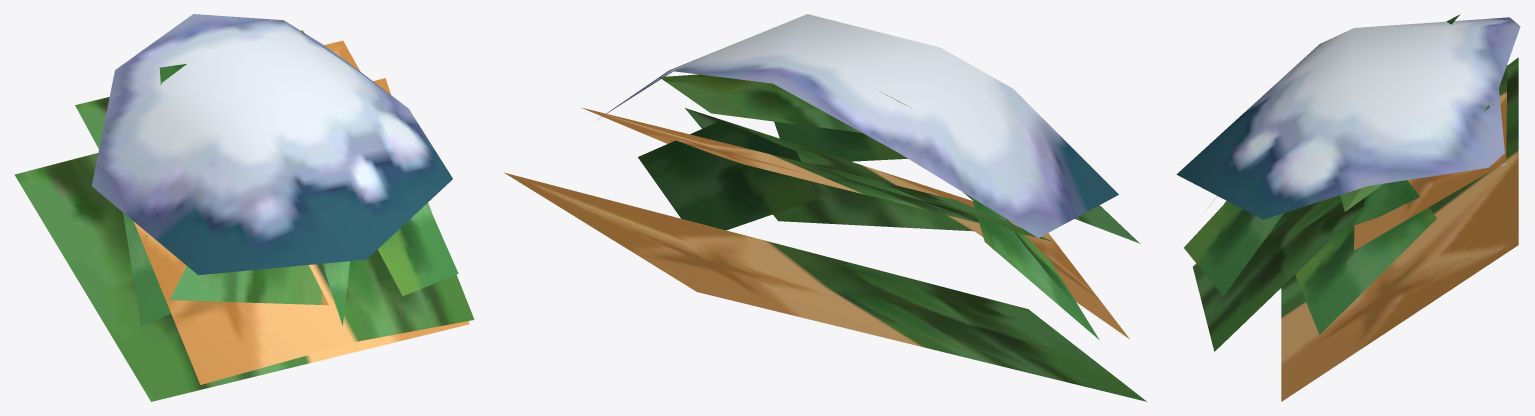
The model's file is fg_bushE_2.dae.
3 views of the same model, side by side, from view 1: azimuth 30°, elevation 25°; view 2: azimuth 150°, elevation 25°; view 3: azimuth 270°, elevation 25° (orthographic). The views are drawn at different scales.
Visible parts, largest first — view 1: fg_bushE_2; view 2: fg_bushE_2; view 3: fg_bushE_2.
Part boxes in pixels (<box>): fg_bushE_2: <box>15,14,474,401</box>; fg_bushE_2: <box>504,14,1146,401</box>; fg_bushE_2: <box>1176,14,1520,401</box>.
Size of the model in its own units: 50.84 by 35.23 by 38.03.
Materials: 1 (1 with a texture image).
